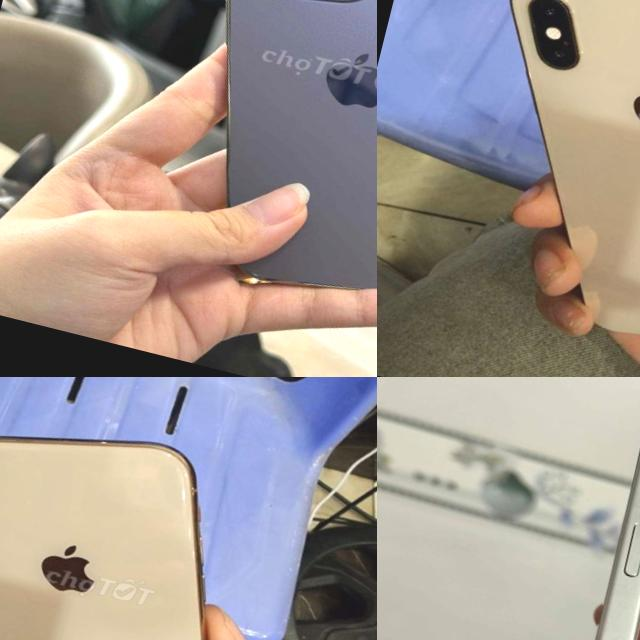gen_14: (127, 0, 377, 343)
gen_15: (468, 383, 640, 640)
gen_x_xs: (510, 0, 640, 334), (0, 437, 204, 640)
